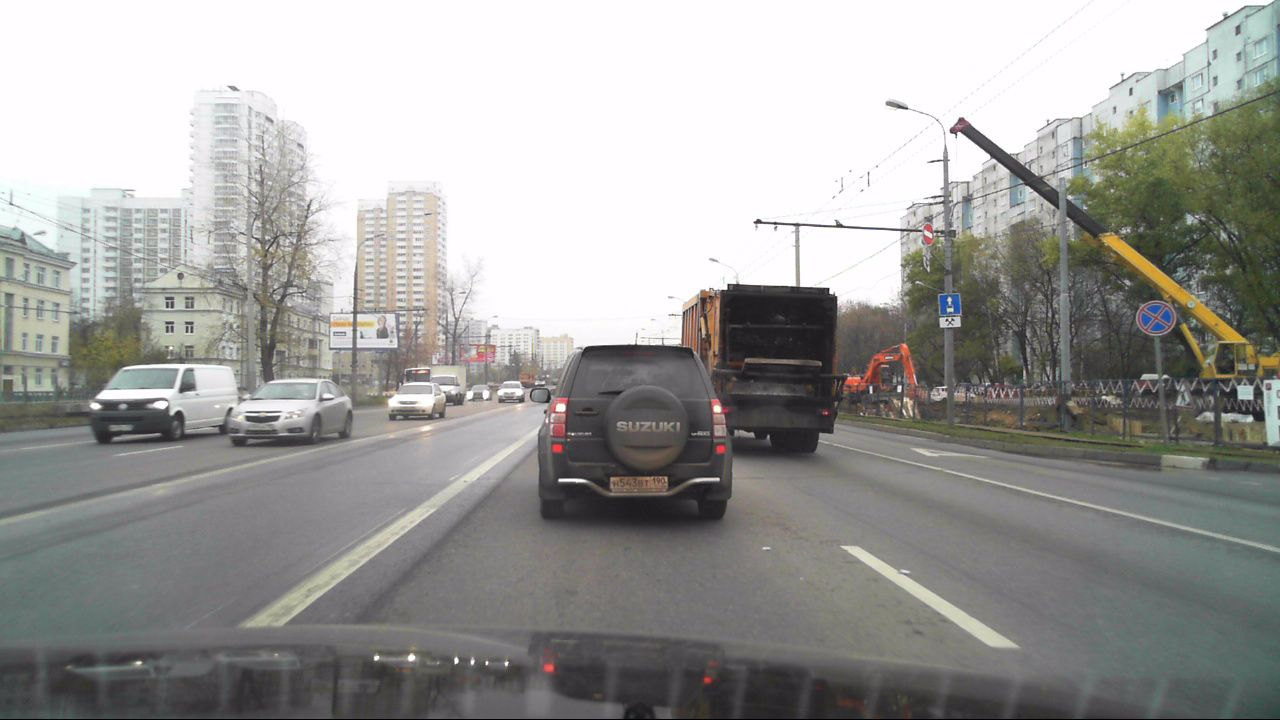No Parking: (1136, 300, 1178, 338)
